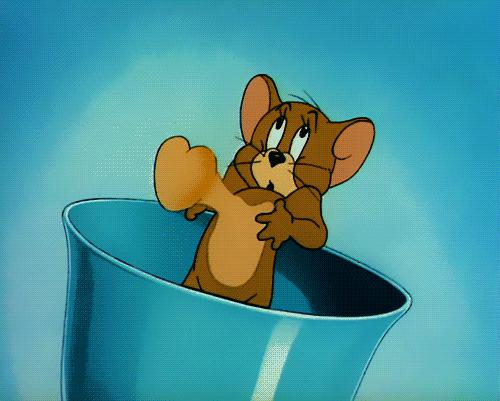jerry: (151, 71, 377, 311)
